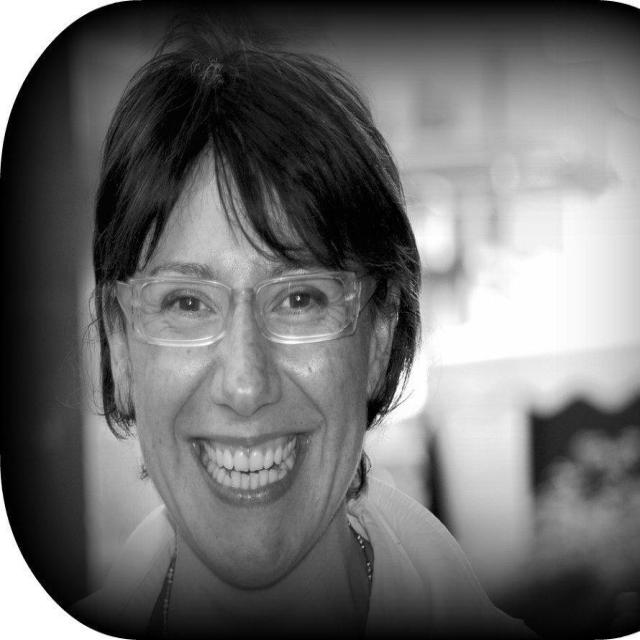no-glass: (162, 274, 330, 327)
